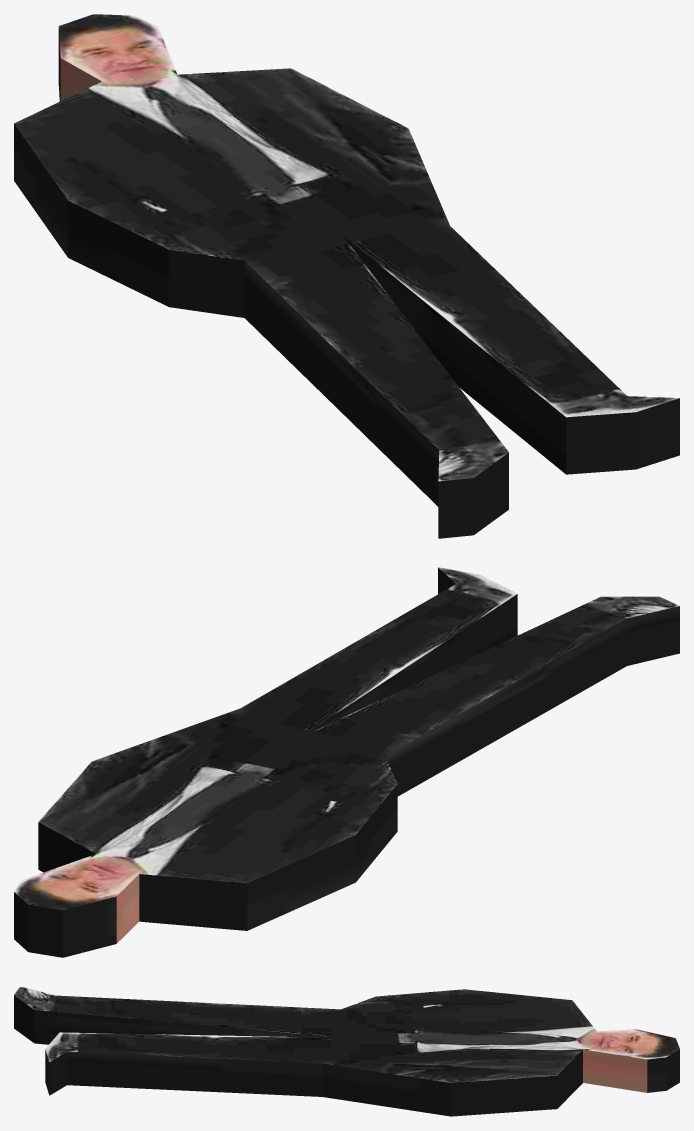
Rendered from businessman.glb.
3 renders of one model, top to bottom at view 1: azimuth 30°, elevation 25°; view 2: azimuth 150°, elevation 25°; view 3: azimuth 270°, elevation 25°, orthographic. The views are drawn at different scales.
Parts seen in each view (by area): view 1: Businessman; view 2: Businessman; view 3: Businessman.
Part boxes in pixels (x1,y1,x2,y2): Businessman: [14, 14, 679, 538]; Businessman: [14, 567, 679, 957]; Businessman: [14, 986, 679, 1116].
Bounding box in the file's own units: 1.53 × 0.2473 × 4.46.
1 material, 1 textured.
